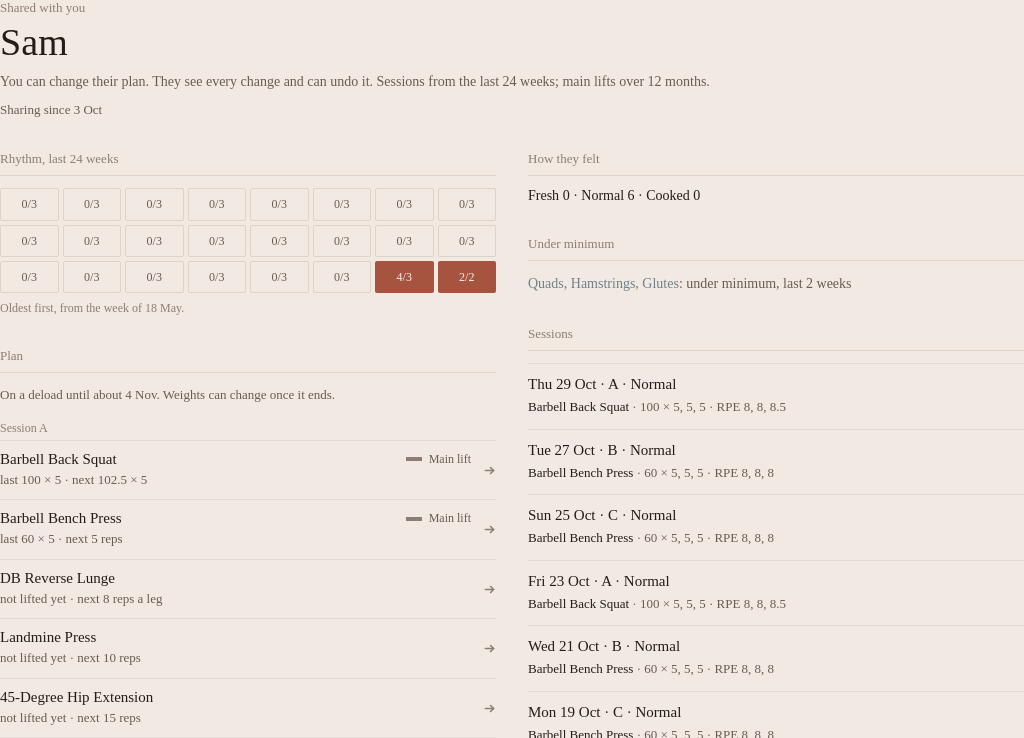
TrainerClientView: the plan › a deload blocks weight changes and says when it ends; reps still change
This screenshot has width=1024, height=738.
What coordinates should you click on to do the following:
click the button "Barbell Back Squat Main lift last 100 × 5 · next 102.5 × 5"
I would click on:
 (58, 459)
Its box is [0,440,496,499].
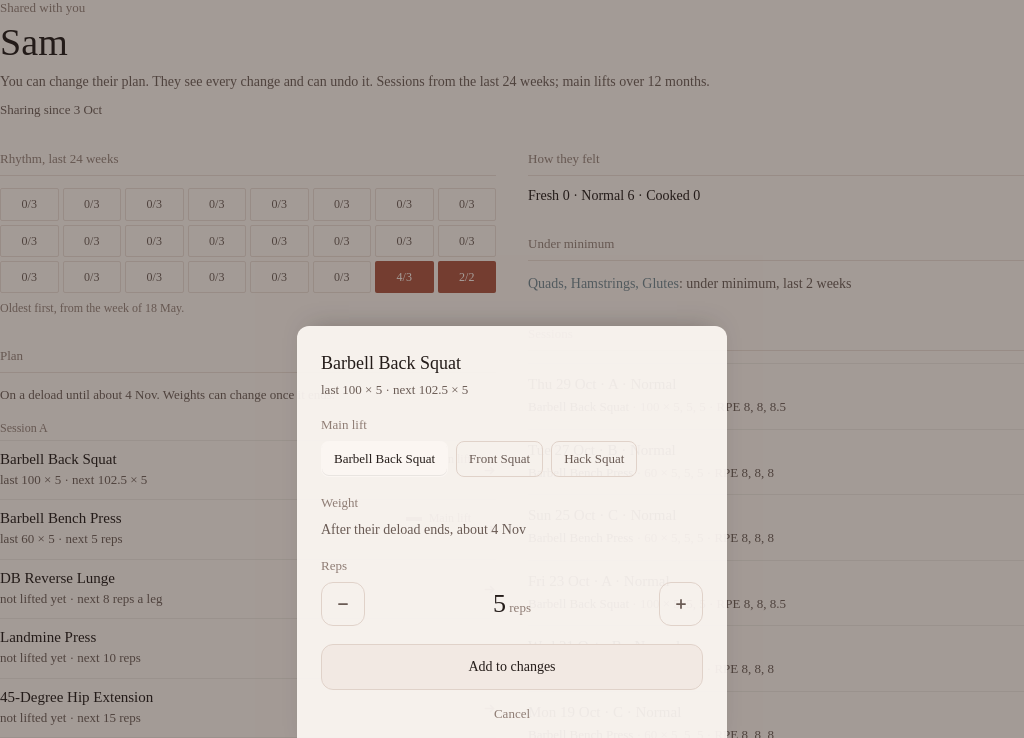
Expected: the button named "More reps" is enabled, [659,582,703,626]
